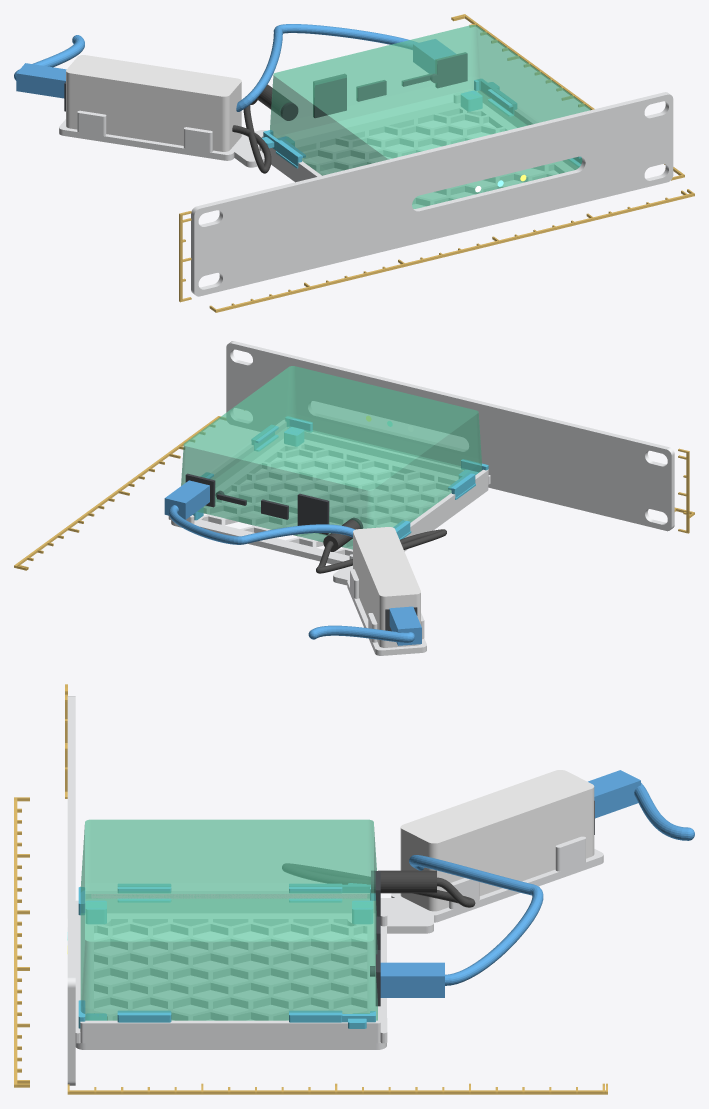
File: home-assistant-green-rack-sics_angled-no_shutter.glb
3 views of the same model, one above another, from view 1: azimuth 30°, elevation 25°; view 2: azimuth 150°, elevation 25°; view 3: azimuth 270°, elevation 25° (orthographic). The views are drawn at different scales.
Visible parts, largest first — view 1: White rack mount, Home Assistant Green, SICSOLINK SL-FLQ-POE48K, Green tray — standard, 10 mm dimension rulers, Home Assistant Green connector faces, Internal Ethernet cable, Incoming PoE cable, Green retention — segmented rails + rear latch, DC cable, Home Assistant logo; view 2: Home Assistant Green, White rack mount, Green tray — standard, SICSOLINK SL-FLQ-POE48K, Internal Ethernet cable, Green retention — segmented rails + rear latch, Home Assistant Green connector faces, Incoming PoE cable, 10 mm dimension rulers, DC cable; view 3: Home Assistant Green, Green tray — standard, SICSOLINK SL-FLQ-POE48K, White rack mount, Internal Ethernet cable, Green retention — segmented rails + rear latch, 10 mm dimension rulers, DC cable, Incoming PoE cable, Home Assistant Green connector faces.
Part boxes in pixels (<box>): White rack mount: <box>59,92,673,296</box>; Home Assistant Green: <box>270,25,590,208</box>; SICSOLINK SL-FLQ-POE48K: <box>66,55,241,151</box>; Green tray — standard: <box>259,89,577,205</box>; 10 mm dimension rulers: <box>179,14,694,312</box>; Home Assistant Green connector faces: <box>280,52,467,120</box>; Internal Ethernet cable: <box>236,24,455,111</box>; Incoming PoE cable: <box>14,35,84,98</box>; Green retention — segmented rails + rear latch: <box>262,79,581,168</box>; DC cable: <box>232,84,291,173</box>; Home Assistant logo: <box>294,203,331,249</box>; Home Assistant Green: <box>181,366,481,549</box>; White rack mount: <box>226,341,674,655</box>; Green tray — standard: <box>168,420,490,564</box>; SICSOLINK SL-FLQ-POE48K: <box>353,527,420,647</box>; Internal Ethernet cable: <box>164,480,354,544</box>; Green retention — segmented rails + rear latch: <box>193,416,488,539</box>; Home Assistant Green connector faces: <box>185,473,363,534</box>; Incoming PoE cable: <box>308,606,421,645</box>; 10 mm dimension rulers: <box>14,410,694,570</box>; DC cable: <box>316,519,446,573</box>; Home Assistant Green: <box>80,819,377,1020</box>; Green tray — standard: <box>75,891,387,1049</box>; SICSOLINK SL-FLQ-POE48K: <box>400,770,594,911</box>; White rack mount: <box>67,696,603,1085</box>; Internal Ethernet cable: <box>380,855,543,997</box>; Green retention — segmented rails + rear latch: <box>78,883,375,1028</box>; 10 mm dimension rulers: <box>14,684,607,1094</box>; DC cable: <box>282,863,475,907</box>; Incoming PoE cable: <box>588,770,694,840</box>; Home Assistant Green connector faces: <box>370,870,380,1006</box>.
Size of what is drawn, in the model's own units: 268 by 44.45 by 254.
